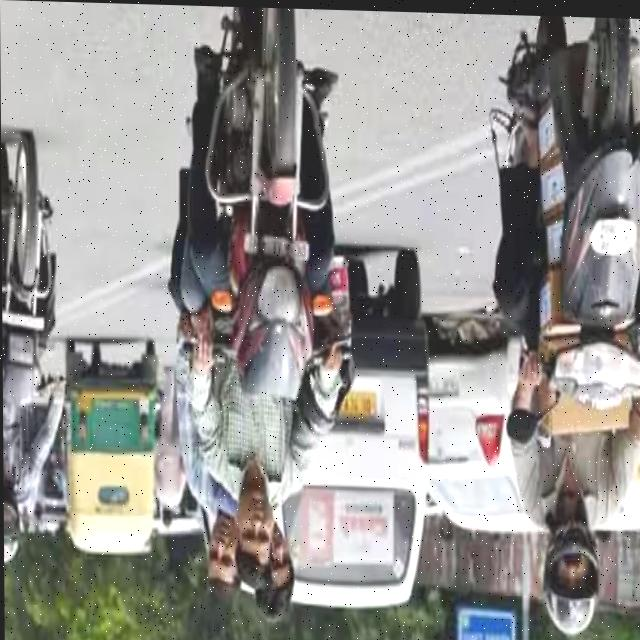plate: (243, 225, 313, 269), (589, 207, 640, 260), (2, 306, 48, 339), (339, 390, 380, 420), (429, 370, 461, 397)
